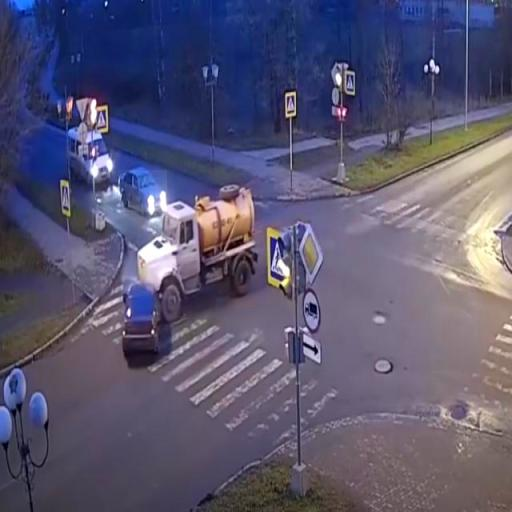小汽车: (68, 125, 112, 185), (118, 170, 167, 212)
小汽车撞小汽车: (116, 191, 254, 349)
